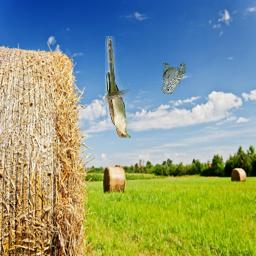Cuckoo: (105, 36, 131, 138)
Sparrow: (162, 62, 187, 94)
